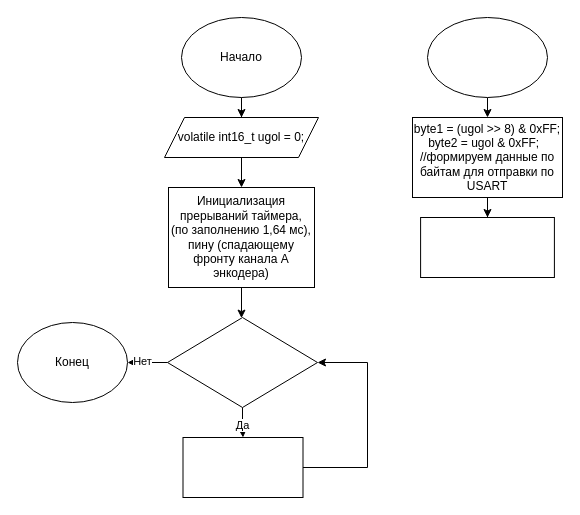
Image size: 580x515. Some labels were removed from this diagram. Each missing label, with the centre of its shape:
putchar(byte1); putchar(byte2); отправка значений на ПК: point (487, 247)
while(True): point (242, 362)
Прерывание по таймеру: point (487, 57)
